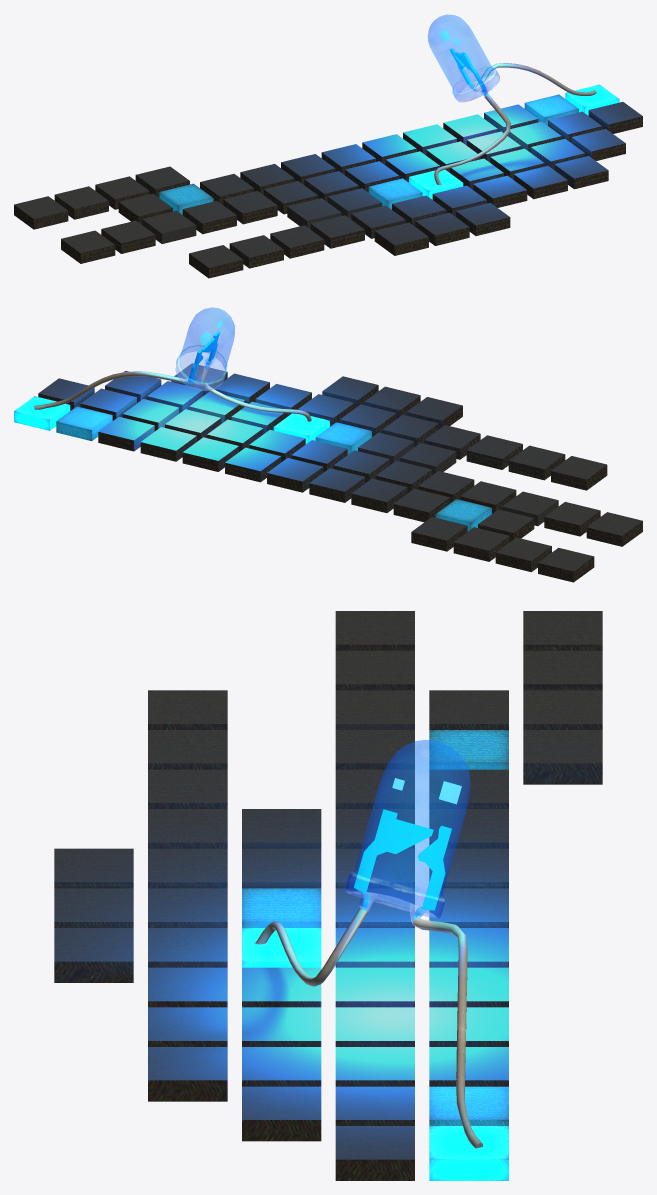
File: LEDCharacter.gltf
The picture shows the model from 3 angles, top to bottom: view 1: azimuth 30°, elevation 25°; view 2: azimuth 150°, elevation 25°; view 3: azimuth 270°, elevation 25°; orthographic projection. The views are drawn at different scales.
Visible parts, largest first — view 1: g (×2); view 2: g (×2); view 3: g (×2).
Part boxes in pixels (<box>): g (×2): <box>14,14,642,278</box>; g (×2): <box>14,307,642,582</box>; g (×2): <box>54,611,602,1180</box>.
Bounding box in the file's own units: 2 × 0.4597 × 0.8446.
2 materials, 2 textured.
